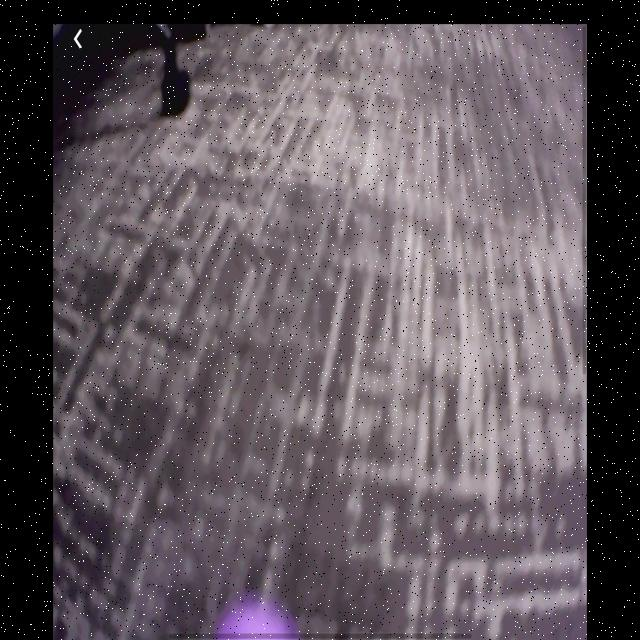ball: (214, 591, 300, 638)
